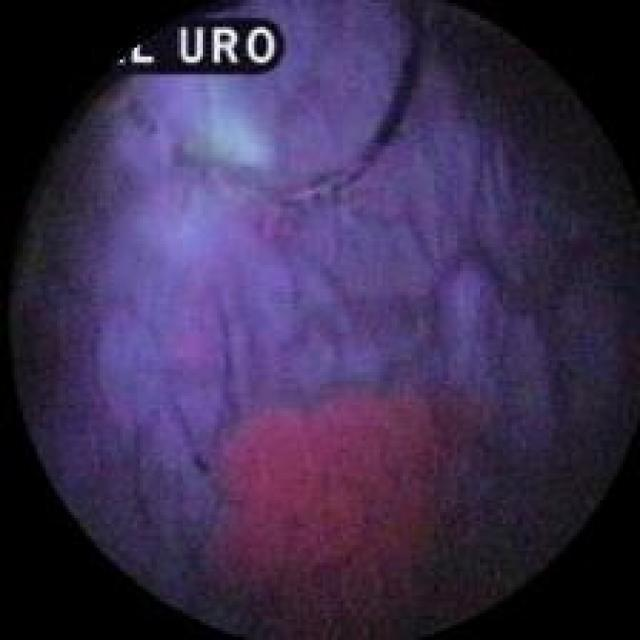color misalignment: (103, 13, 283, 78)
contrast: (3, 118, 130, 455), (453, 33, 626, 235)
instrument: (102, 4, 429, 202)
